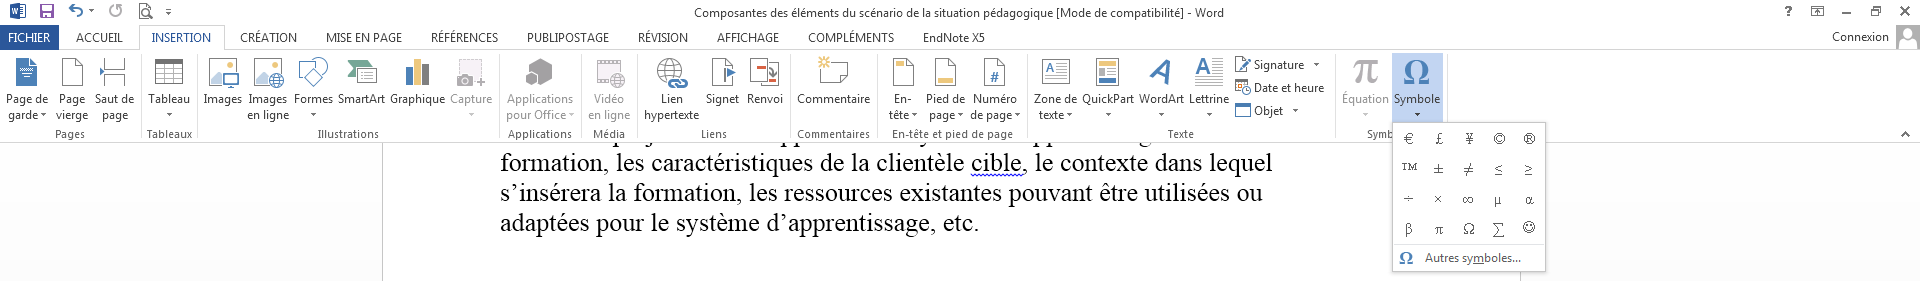texte: (156, 56, 377, 88), (651, 139, 812, 182), (767, 214, 936, 237), (501, 148, 609, 182), (16, 58, 125, 86), (893, 58, 1005, 85), (634, 183, 741, 205), (877, 144, 964, 171), (893, 129, 1011, 147), (501, 214, 589, 237), (677, 214, 759, 237), (900, 183, 1000, 201), (1009, 185, 1092, 207), (972, 148, 1027, 182), (501, 183, 600, 201), (711, 58, 779, 85), (1463, 242, 1516, 272), (1145, 183, 1229, 201), (1210, 153, 1272, 177), (1060, 155, 1149, 171), (784, 189, 891, 201), (793, 130, 869, 147), (10, 0, 54, 27), (1425, 242, 1460, 272), (809, 29, 894, 42), (596, 218, 644, 237), (988, 120, 1015, 151), (613, 144, 644, 171), (432, 29, 498, 42), (1156, 153, 1202, 171), (1111, 9, 1183, 20), (818, 56, 849, 82), (696, 9, 767, 20), (1255, 60, 1319, 72), (984, 9, 1053, 20), (1232, 44, 1248, 90), (1100, 183, 1138, 201), (528, 33, 609, 42), (1236, 79, 1278, 94), (241, 29, 296, 42), (508, 130, 571, 140), (798, 94, 869, 103), (947, 120, 966, 151), (391, 94, 444, 106), (645, 110, 699, 121), (639, 29, 687, 42), (1404, 60, 1429, 83), (1082, 94, 1134, 106), (594, 129, 624, 147), (944, 215, 978, 231), (523, 94, 572, 106), (971, 110, 1020, 121), (718, 33, 779, 42), (1255, 106, 1298, 118), (749, 183, 778, 201), (924, 33, 984, 42), (1393, 94, 1440, 106), (1150, 60, 1171, 85), (140, 2, 171, 18), (152, 33, 211, 42), (1343, 94, 1389, 106), (1406, 223, 1442, 237), (1833, 32, 1888, 40), (1036, 144, 1053, 171), (7, 94, 48, 106), (451, 94, 491, 106), (589, 110, 629, 121), (318, 130, 378, 137), (204, 94, 242, 106), (249, 94, 287, 106), (9, 110, 47, 121), (76, 33, 122, 42), (792, 9, 839, 17), (820, 153, 844, 171), (339, 94, 384, 103), (1139, 94, 1184, 103), (1314, 44, 1322, 90), (936, 9, 980, 17), (860, 9, 902, 17), (973, 94, 1016, 103), (707, 94, 740, 106), (973, 26, 988, 50), (69, 4, 94, 17), (9, 33, 49, 42), (148, 94, 189, 103), (932, 120, 943, 151), (973, 120, 984, 151), (609, 183, 627, 201), (1057, 9, 1091, 18), (1190, 94, 1229, 103), (147, 130, 192, 137), (96, 94, 133, 103), (295, 94, 333, 103), (525, 54, 533, 97), (1237, 189, 1262, 201), (790, 26, 802, 50), (748, 94, 782, 103), (852, 153, 869, 171), (651, 214, 669, 231), (56, 130, 84, 140), (56, 113, 88, 121), (931, 113, 962, 121), (1040, 110, 1071, 119), (60, 94, 84, 106), (264, 110, 289, 121), (535, 110, 564, 119), (373, 33, 402, 42), (1195, 9, 1223, 17), (889, 110, 917, 119), (1296, 83, 1324, 92), (1368, 130, 1392, 140), (596, 94, 623, 103), (1033, 94, 1060, 103), (103, 113, 129, 121), (1236, 103, 1251, 117), (1196, 58, 1210, 74), (327, 33, 351, 42), (702, 26, 710, 50), (507, 113, 529, 121), (702, 130, 726, 137), (1168, 130, 1193, 137), (927, 94, 948, 103), (662, 94, 682, 103), (1400, 252, 1413, 264), (1493, 223, 1504, 237), (771, 9, 789, 17), (895, 94, 911, 103), (1402, 163, 1417, 171), (1464, 223, 1474, 234), (356, 33, 369, 42), (842, 9, 855, 17), (907, 9, 920, 17), (1095, 9, 1107, 17), (1464, 163, 1473, 175), (1067, 94, 1078, 103), (1404, 133, 1413, 144), (1046, 63, 1054, 72), (955, 94, 965, 103), (1495, 164, 1502, 175), (1524, 164, 1532, 175), (1282, 83, 1291, 92), (1434, 164, 1442, 173), (249, 113, 260, 119), (1436, 133, 1442, 144), (923, 9, 931, 17), (1189, 13, 1191, 13)
